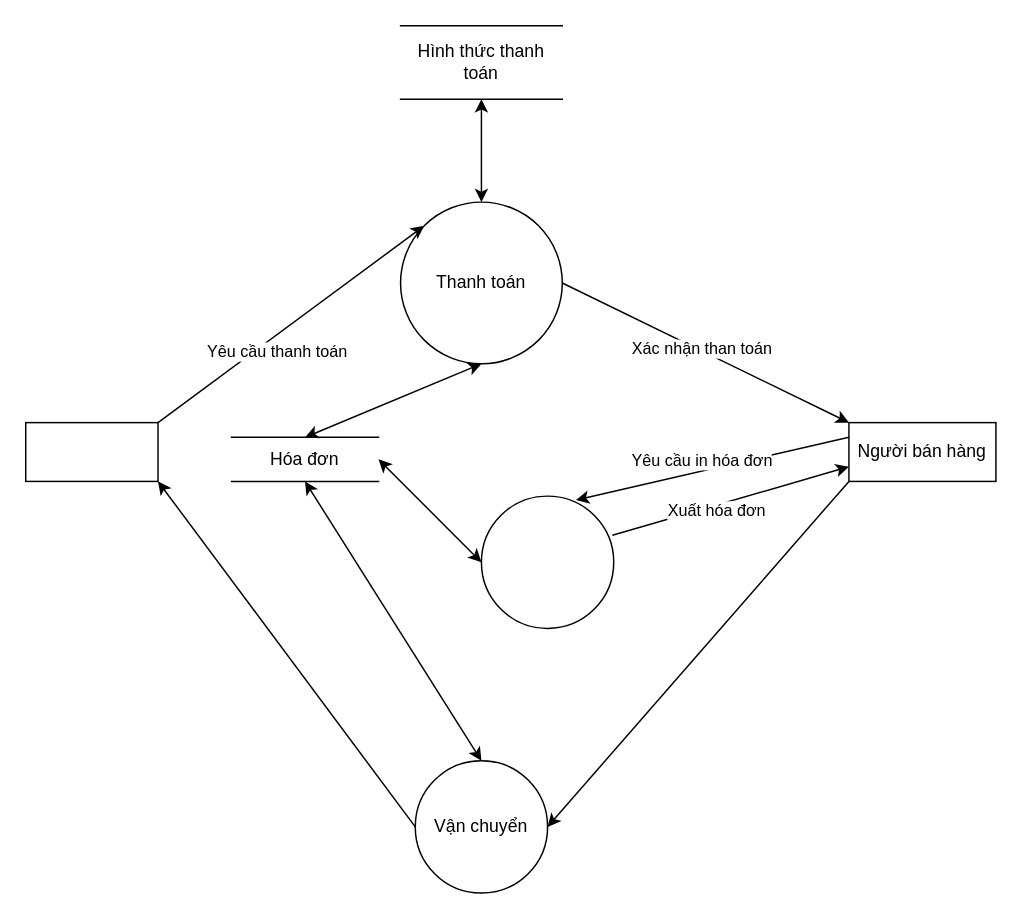
Some shapes in this 1022 by 919 pixel diagram are drawn without their labels. Each missing label, with the box of its shape:
Khách hàng: (24, 421, 158, 481)
Quản lí hóa đơn: (480, 495, 614, 628)
